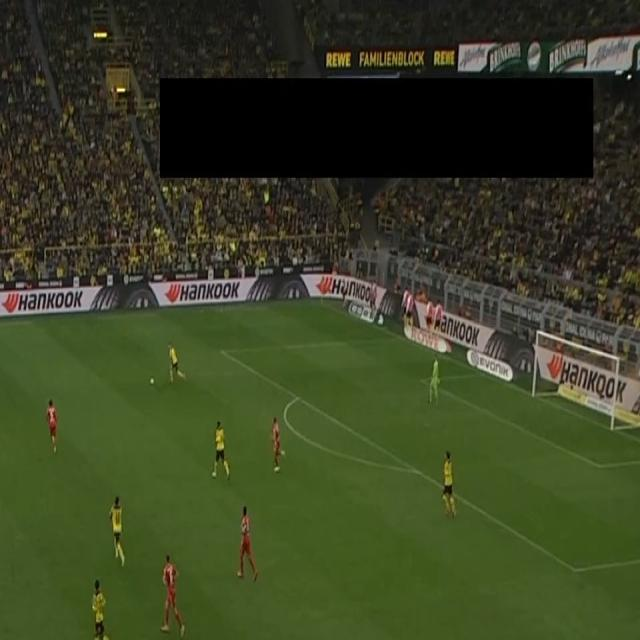ball: (149, 377, 154, 386)
